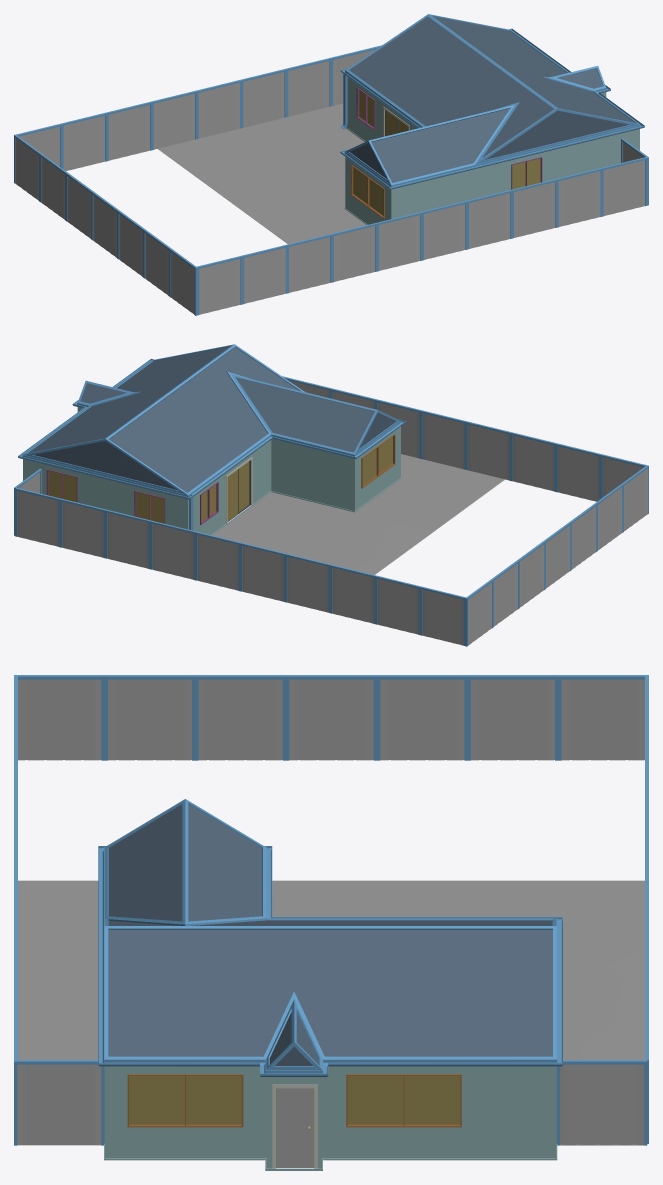
File: dummyHouseGeo_2.fbx
3 renders of one model, top to bottom at view 1: azimuth 30°, elevation 25°; view 2: azimuth 150°, elevation 25°; view 3: azimuth 270°, elevation 25°, orthographic. The views are drawn at different scales.
Visible parts, largest first — view 1: roof, concrete, outerWalls, fence6 (×3), fence1 (×3), fence5 (×3), fence3 (×3), fence4 (×3), fence7 (×3), fence8 (×2), fence9 (×2), gutters (+7 smaller); view 2: roof, concrete, outerWalls, fence3 (×3), fence4 (×3), fence1 (×3), fence5 (×3), fence7 (×3), fence8 (×2), fence6 (×3), gutters, fence9 (+10 smaller); view 3: roof, concrete, outerWalls, fence1, fence5, fence3, fence2, fence4, frontFence2, frontFence1, fence6, fence7 (+6 smaller).
Part boxes in pixels (left/top/right/bottom): roof: left=345, top=14, right=639, bottom=184; concrete: left=157, top=103, right=366, bottom=244; outerWalls: left=345, top=77, right=639, bottom=224; fence6 (×3): left=14, top=58, right=512, bottom=249; fence1 (×3): left=61, top=112, right=287, bottom=304; fence5 (×3): left=40, top=69, right=467, bottom=260; fence3 (×3): left=92, top=90, right=377, bottom=282; fence4 (×3): left=66, top=80, right=422, bottom=271; fence7 (×3): left=16, top=123, right=242, bottom=315; fence8 (×2): left=106, top=101, right=332, bottom=293; fence9 (×2): left=331, top=47, right=557, bottom=238; gutters: left=340, top=28, right=644, bottom=189; roof: left=23, top=344, right=400, bottom=494; concrete: left=212, top=454, right=504, bottom=574; outerWalls: left=23, top=407, right=400, bottom=534; fence3 (×3): left=285, top=421, right=570, bottom=612; fence4 (×3): left=240, top=410, right=544, bottom=608; fence1 (×3): left=375, top=443, right=622, bottom=634; fence5 (×3): left=195, top=399, right=518, bottom=627; fence7 (×3): left=420, top=454, right=648, bottom=645; fence8 (×2): left=330, top=432, right=556, bottom=623; fence6 (×3): left=150, top=388, right=493, bottom=646; gutters: left=18, top=359, right=405, bottom=499; fence9: left=105, top=509, right=150, bottom=569; roof: left=104, top=799, right=556, bottom=1069; concrete: left=18, top=880, right=645, bottom=1145; outerWalls: left=104, top=1066, right=556, bottom=1168; fence1: left=104, top=675, right=195, bottom=760; fence5: left=467, top=675, right=558, bottom=760; fence3: left=286, top=675, right=376, bottom=760; fence2: left=195, top=675, right=285, bottom=760; fence4: left=377, top=675, right=467, bottom=760; frontFence2: left=556, top=1060, right=647, bottom=1145; frontFence1: left=14, top=1060, right=104, bottom=1145; fence6: left=558, top=675, right=648, bottom=760; fence7: left=14, top=675, right=104, bottom=760.
Bounding box in the file's own units: 21.62 × 3.98 × 14.
